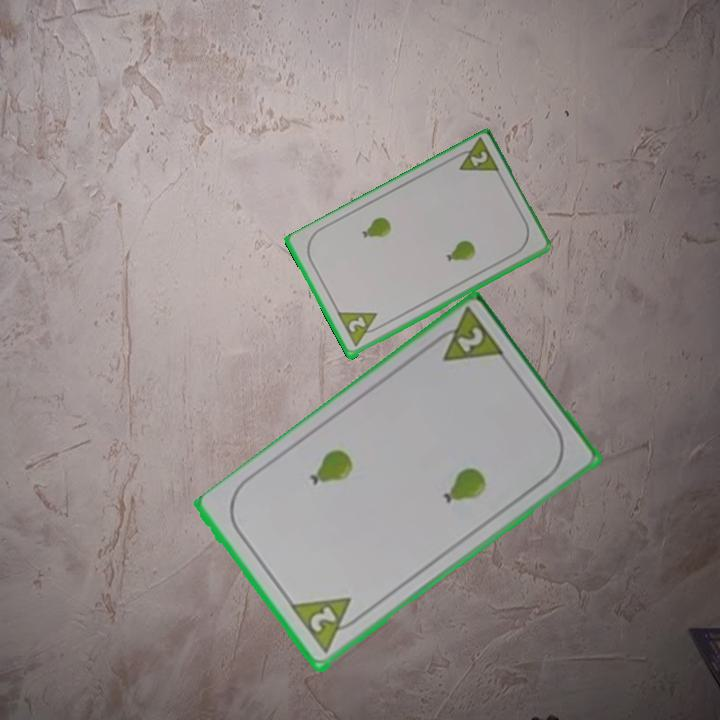2p: (288, 594, 366, 658), (426, 306, 508, 366), (449, 136, 503, 177), (334, 308, 386, 350)
